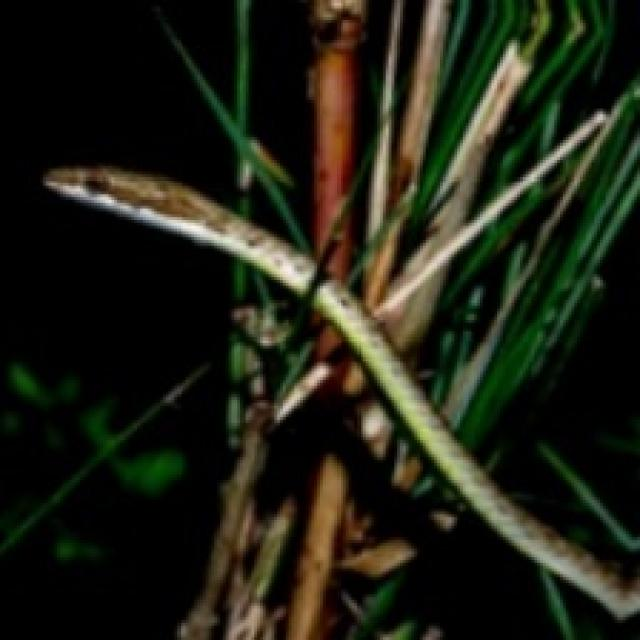philippine whip snake: (311, 283, 637, 617), (43, 166, 314, 294)
